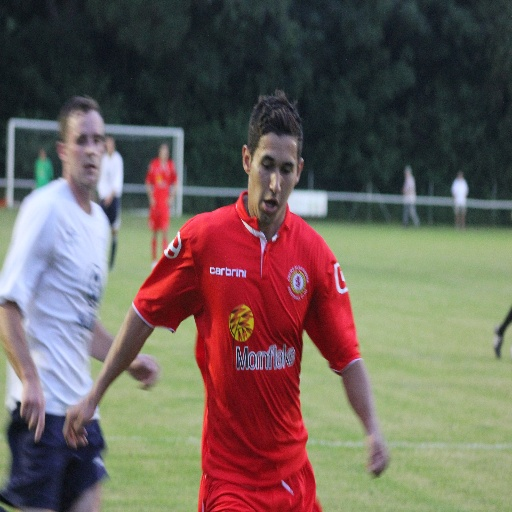hand: (50, 389, 91, 467), (17, 379, 45, 443), (362, 431, 390, 481), (128, 351, 162, 391)
